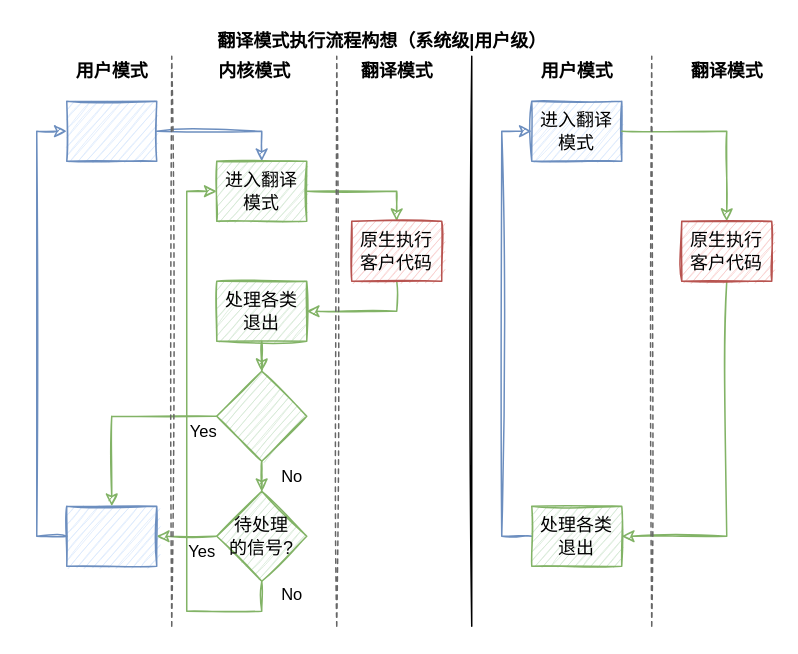
Some shapes in this 798 by 654 pixel diagram are drawn without their labels. The centre of each missing label's shape, as x and y in pixels:
"ioctl进入翻译模式" goes at point 111,130.
"处理I/O" goes at point 111,535.
"设备I/O?" goes at point 261,415.
